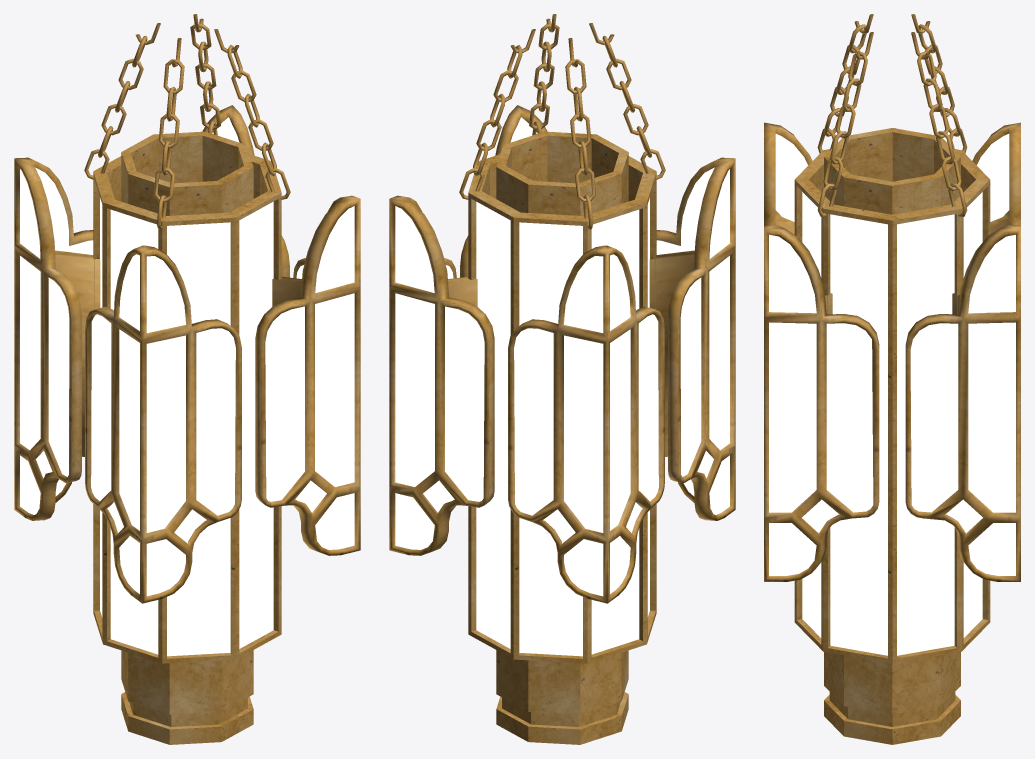
File: deco-chandelier.gltf
The picture shows the model from 3 angles, left to right: view 1: azimuth 30°, elevation 25°; view 2: azimuth 150°, elevation 25°; view 3: azimuth 270°, elevation 25°; orthographic projection.
Parts seen in each view (by area): view 1: Sketchfab_model; view 2: Sketchfab_model; view 3: Sketchfab_model.
Boxes of the visible parts, x1,y1,x2,y2 form: Sketchfab_model: [14, 14, 360, 744]; Sketchfab_model: [389, 14, 735, 744]; Sketchfab_model: [764, 14, 1020, 744].
Bounding box in the file's own units: 0.4301 × 1.3 × 0.4372.
Materials: 2 (1 with a texture image).
